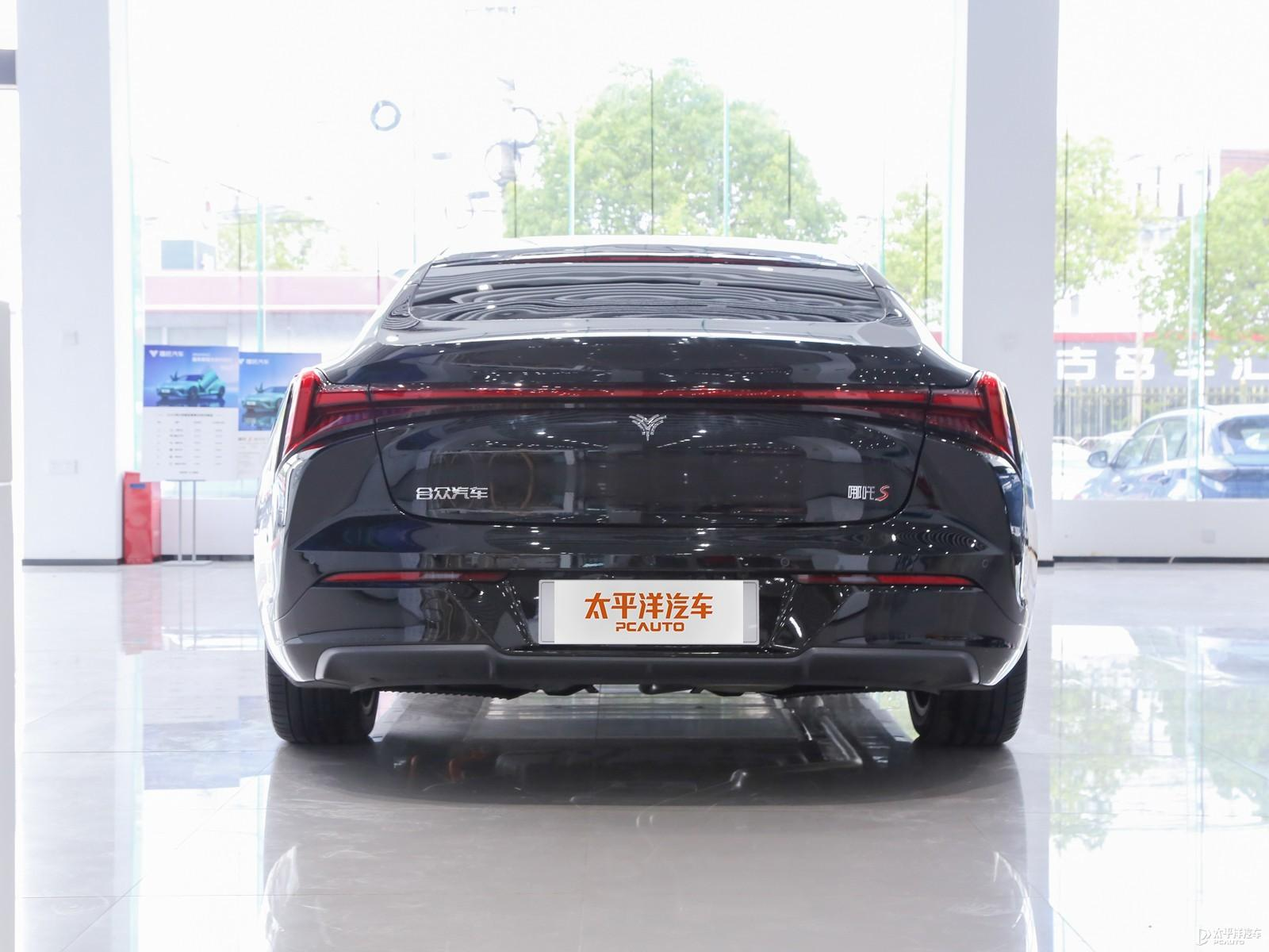NETA: (627, 412, 669, 443)
